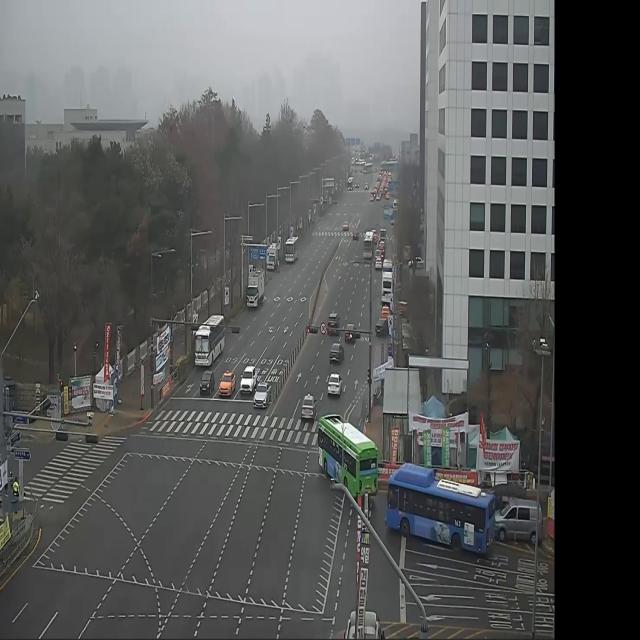car: (386, 459, 497, 562), (316, 411, 378, 506), (191, 310, 226, 366), (283, 230, 300, 264), (380, 269, 394, 308)
motorcycle: (496, 493, 544, 546), (241, 359, 259, 396), (253, 382, 273, 411), (218, 368, 235, 400), (302, 389, 318, 423), (326, 371, 344, 399), (200, 369, 216, 398), (330, 342, 346, 366), (325, 307, 338, 329)
truck: (246, 263, 266, 312)
